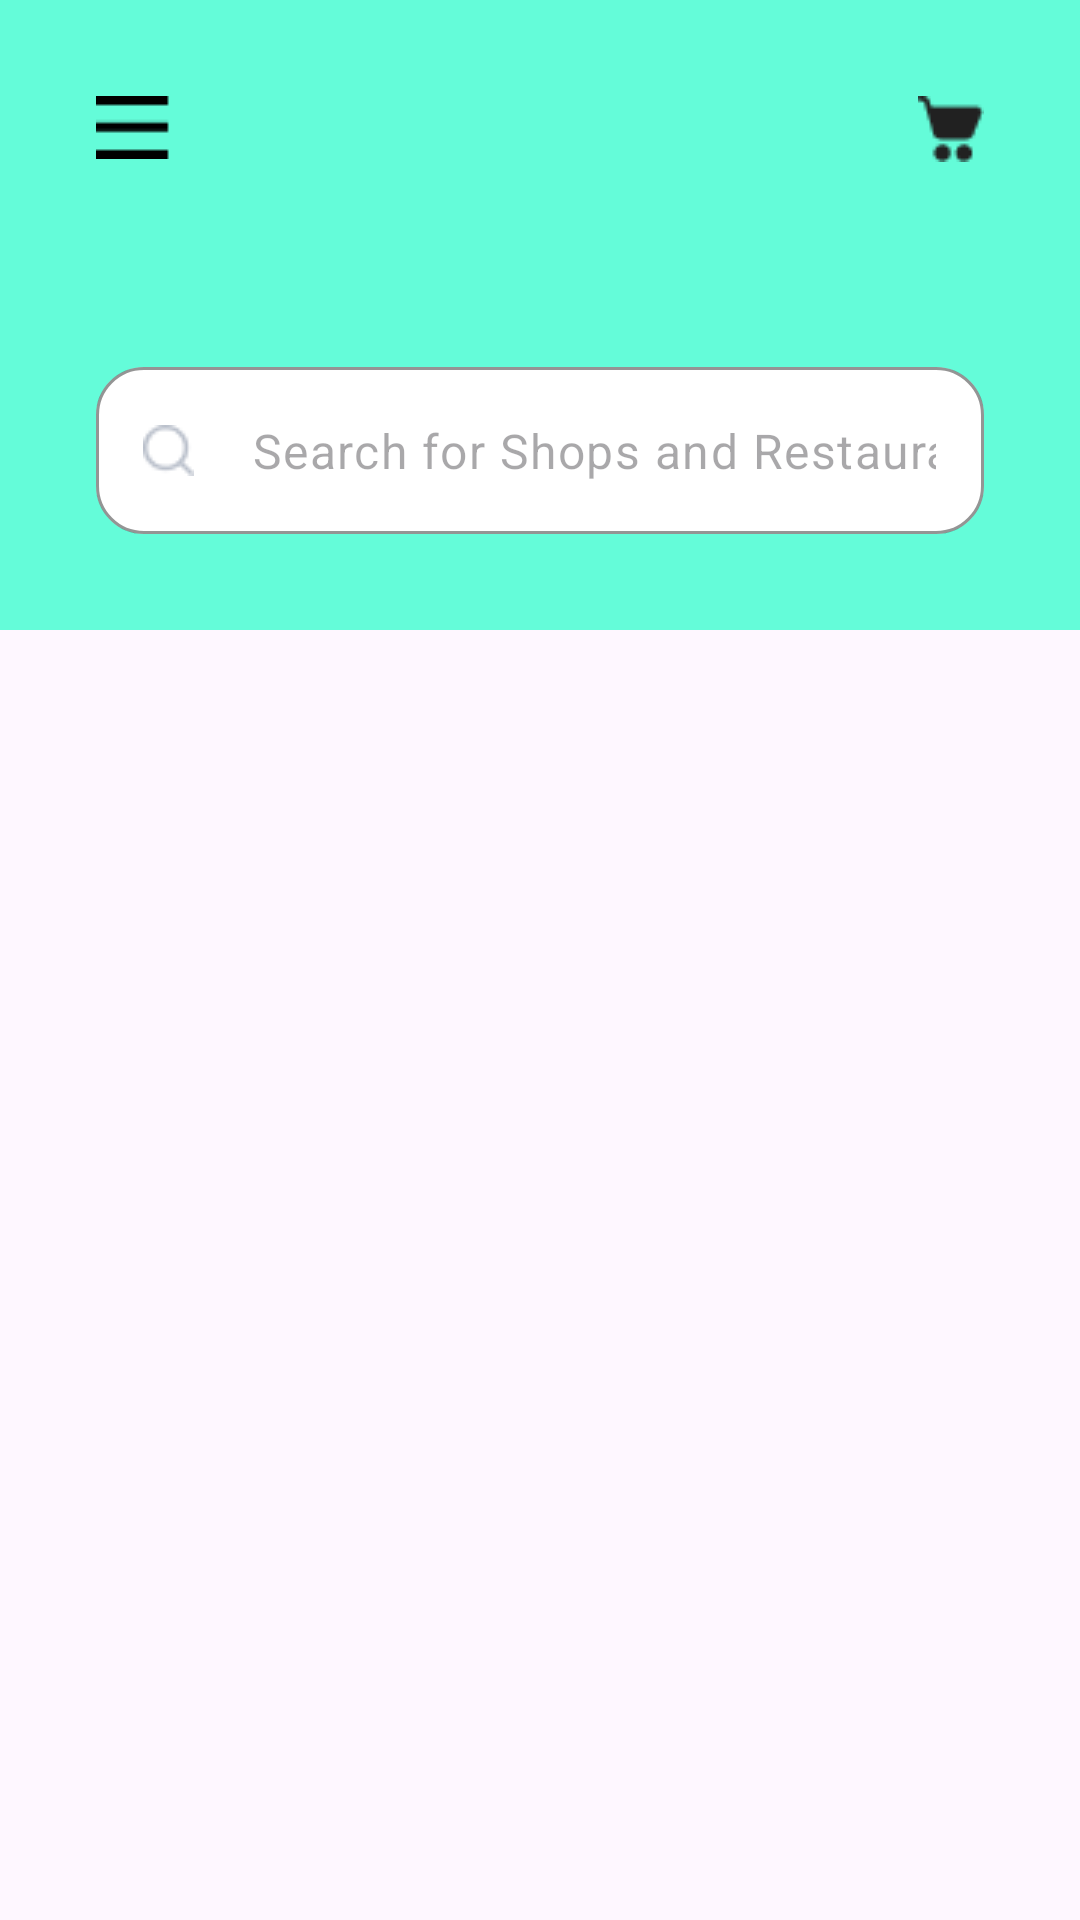

Screen size 1080px×1920px. Icon name, then its center in pixels as [x,y]:
cart: [951,129]
menu: [132,127]
